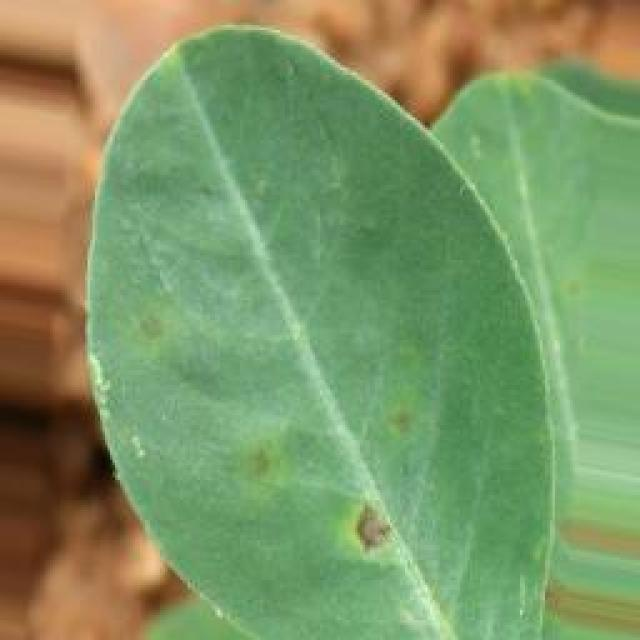Sigatoka: (292, 482, 394, 564), (239, 418, 307, 521), (344, 399, 424, 481)
